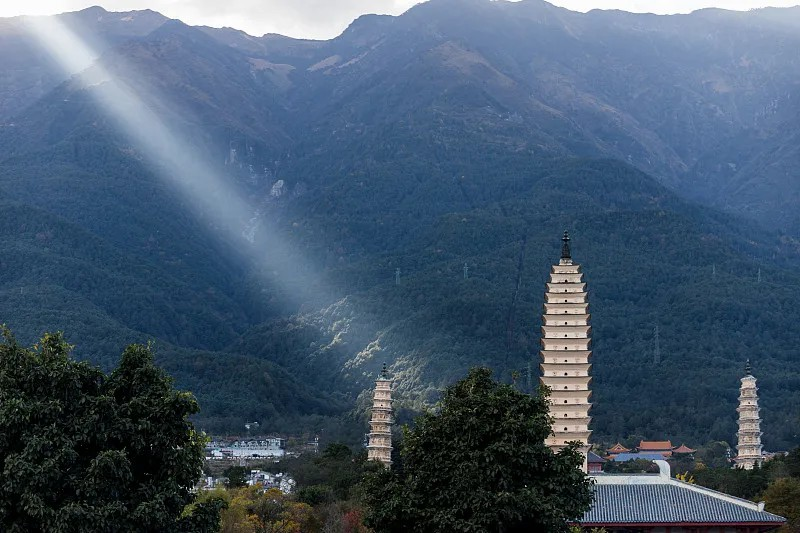ThreePagoda: (538, 231, 593, 473)
